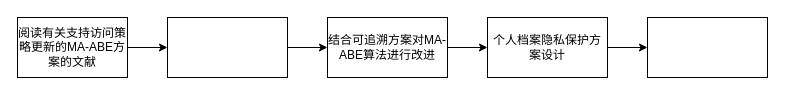
The diagram is 785 pixels wide and 95 high, and some of its shapes have lost their labels. The shapes that lost their labels are listed below. From the top down, each one's centre as x and y in pixels, then its label:
At (x=227, y=47): "有关支持访问策略更新的MA-ABE场景分析".
At (x=707, y=47): "得到最终可支持访问策略更新和可追溯的MA-ABE方案".
